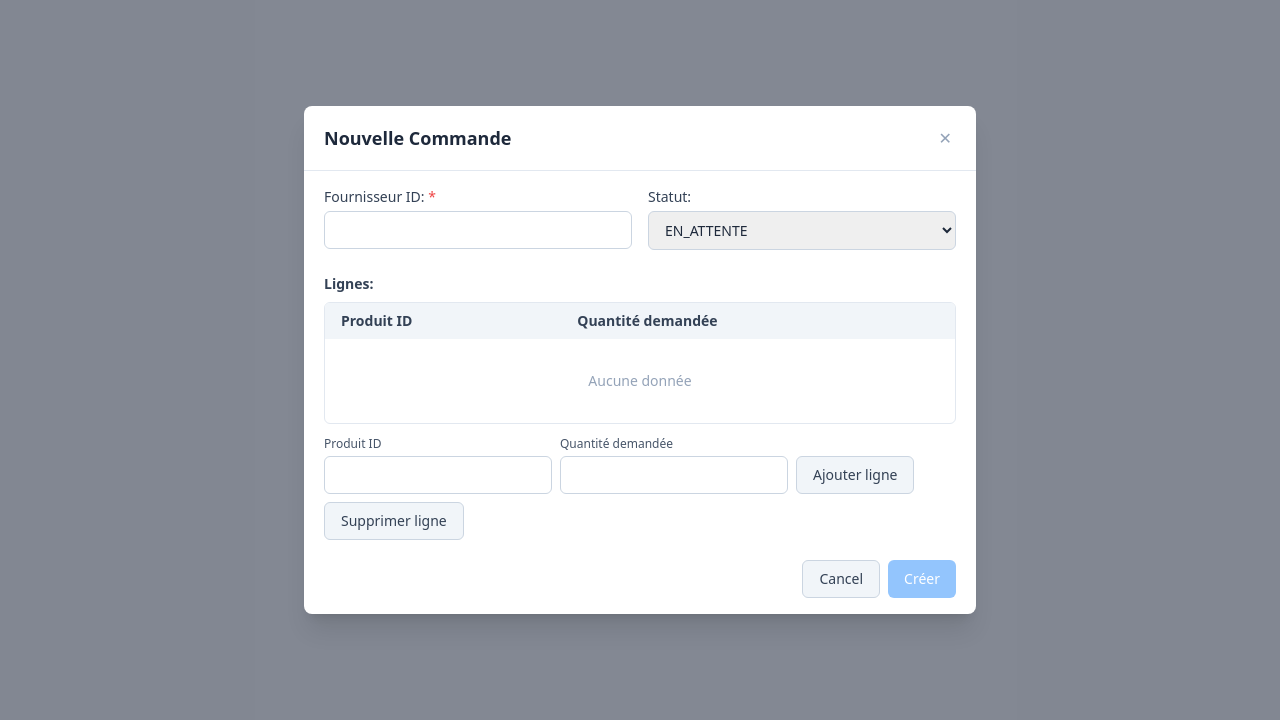
CommandeFormModal › affiche la meme erreur si on clique Creer sans aucune ligne
The width and height of the screenshot is (1280, 720).
Type "1" into the number field labelled "Fournisseur ID: *" at (478,230), box [324,211,632,249]
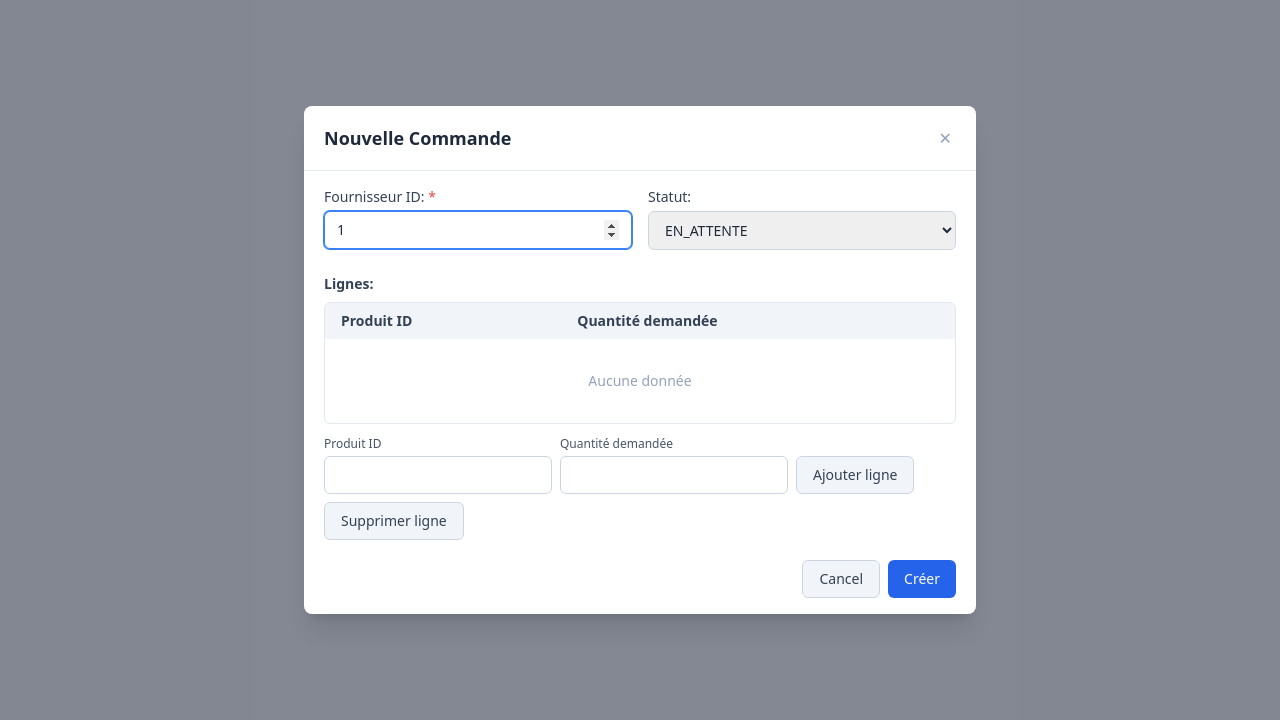
Click the button "Créer" at (922,579), box [888,560,956,598]
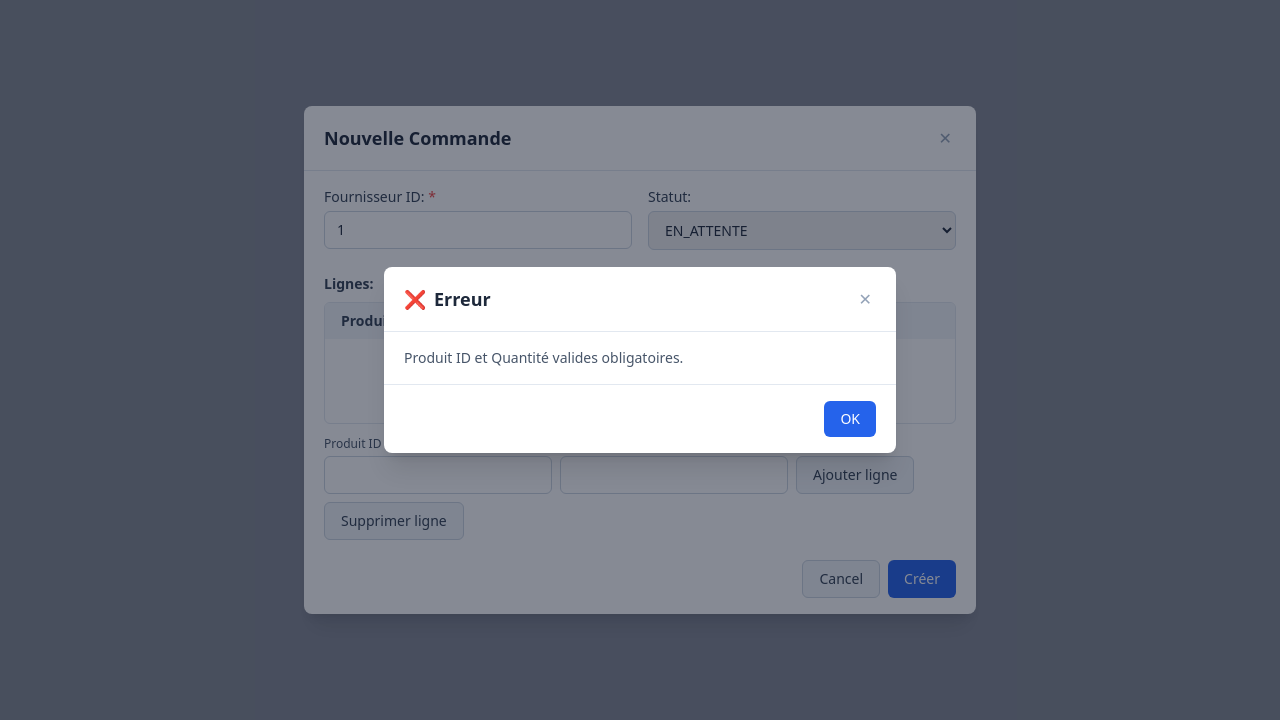
Check: the text "Produit ID et Quantité valides obligatoires." is shown, box [404,348,683,367]
